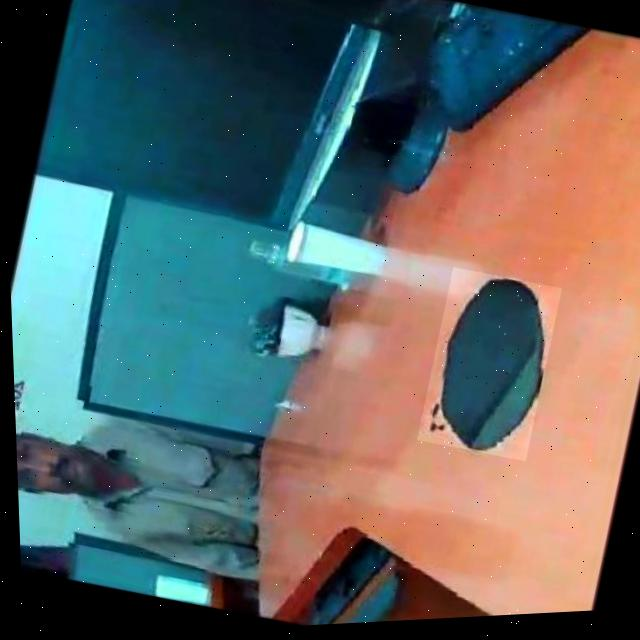spillage: (417, 282, 543, 454)
